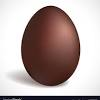egg: (20, 6, 80, 86)
